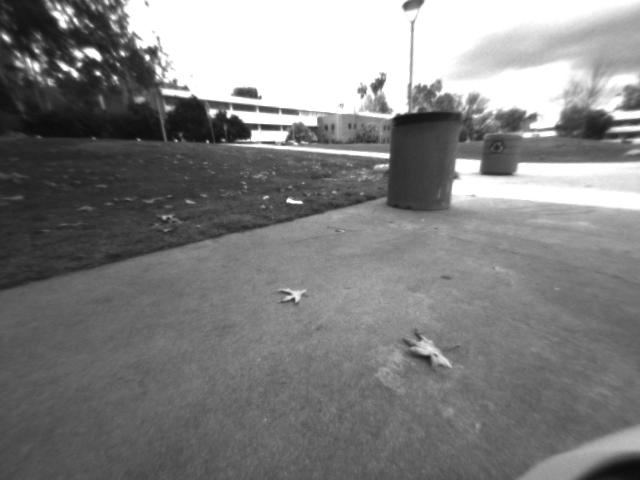trashcan: (386, 106, 461, 213), (483, 127, 520, 186)
